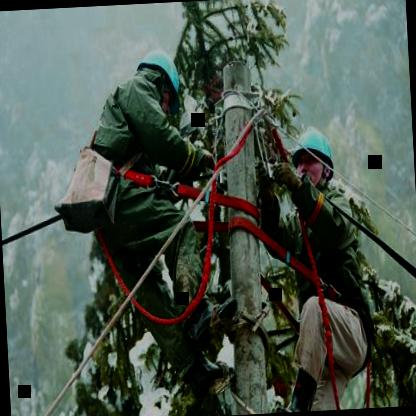helmet: (132, 45, 186, 121), (292, 124, 336, 190)
